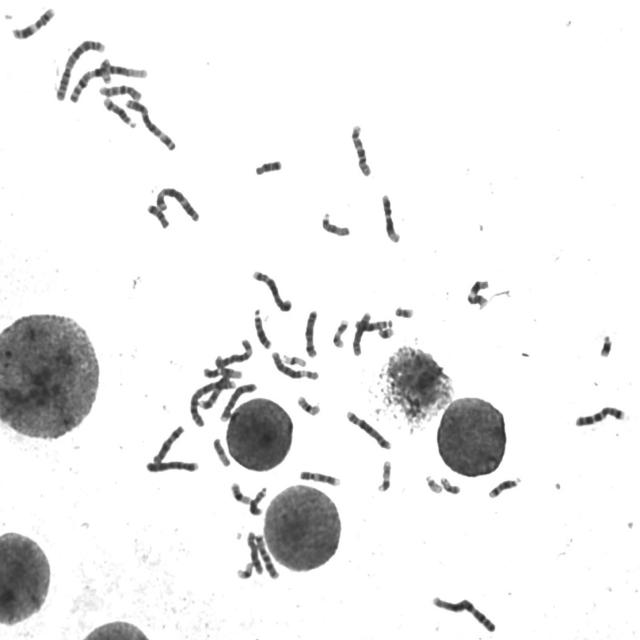A1: (66, 60, 149, 103), (428, 591, 498, 634)
A2: (52, 34, 108, 101), (187, 375, 237, 428)
A3: (121, 94, 178, 152), (153, 183, 202, 223)
B4: (216, 378, 258, 423), (143, 456, 200, 474)
B5: (343, 406, 393, 450), (248, 266, 294, 312)
C10: (348, 120, 373, 177), (95, 80, 144, 101)
C11: (9, 2, 57, 40), (464, 276, 495, 310)
C12: (378, 190, 402, 243), (200, 362, 244, 379)
C6: (268, 346, 321, 382), (213, 334, 255, 369)
C7: (572, 400, 628, 428), (252, 530, 282, 580)
C8: (349, 308, 373, 357), (245, 486, 275, 518)
C9: (197, 375, 229, 412), (296, 466, 342, 487)
D13: (250, 303, 274, 350), (352, 313, 394, 331)
D14: (100, 92, 138, 128), (485, 473, 523, 499)
D15: (318, 208, 352, 238), (209, 433, 232, 468)
E16: (294, 391, 322, 417), (228, 478, 253, 506)
E17: (329, 315, 350, 349), (374, 456, 393, 493)
E18: (144, 200, 171, 230), (252, 155, 284, 176)
F19: (234, 558, 255, 580), (282, 352, 308, 369)
F20: (96, 54, 114, 84), (438, 473, 462, 495)
G21: (596, 329, 614, 359), (375, 323, 396, 339)
G22: (422, 470, 444, 495), (395, 306, 415, 318)
X: (149, 420, 187, 465), (301, 306, 320, 358)
